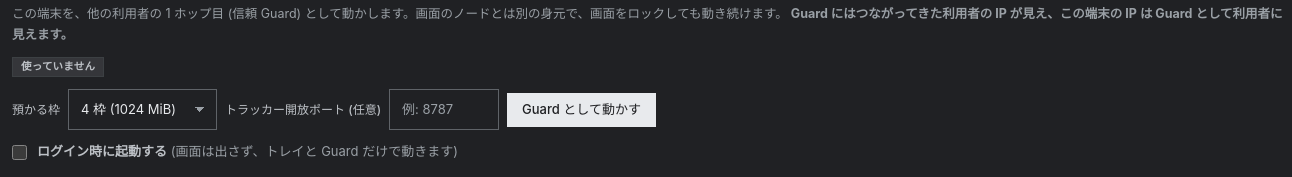
Test: この端末の Guard (デスクトップ版の設定) › 有効にすると、選んだ枠の数で起動を頼む。IP が見えることを明示する
Check: the text "使っていません" is shown, box [12,57,104,77]
Check: the text "Guard にはつながってきた利用者の IP が見え、この端末の IP は Guard として利用者に見えます。" is shown, box [12,6,1282,42]
Step 1. Select "8 枠 (2048 MiB)" in the dropdown labelled "預かる枠" → (142,110), box [68,89,217,130]
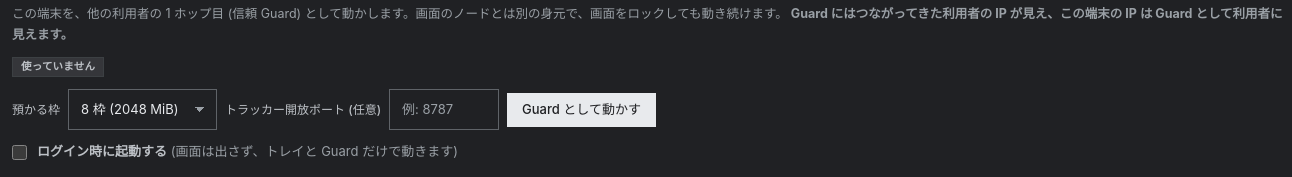
Step 2. Click the button "Guard として動かす" → (582,110), box [507,93,656,127]
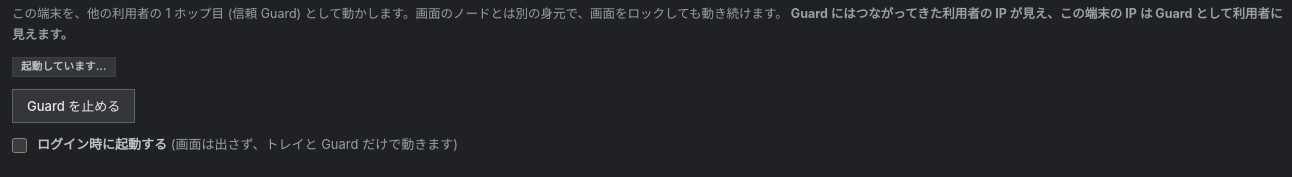
Check: the text "起動しています..." is shown, box [12,57,116,77]
